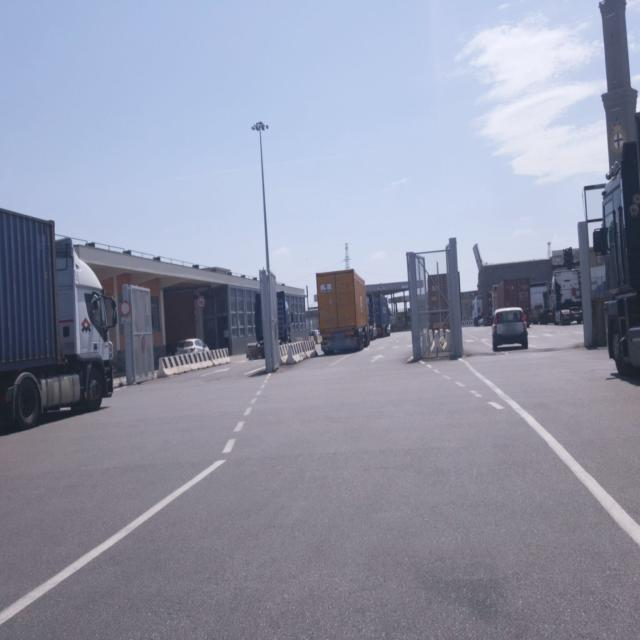car: (491, 306, 529, 352), (554, 297, 583, 326), (176, 336, 209, 356), (245, 340, 266, 361)
